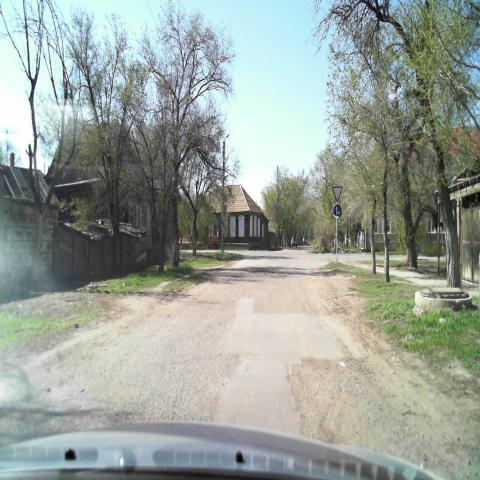2_4: (331, 186, 342, 204)
4_1_4: (333, 204, 342, 220)
